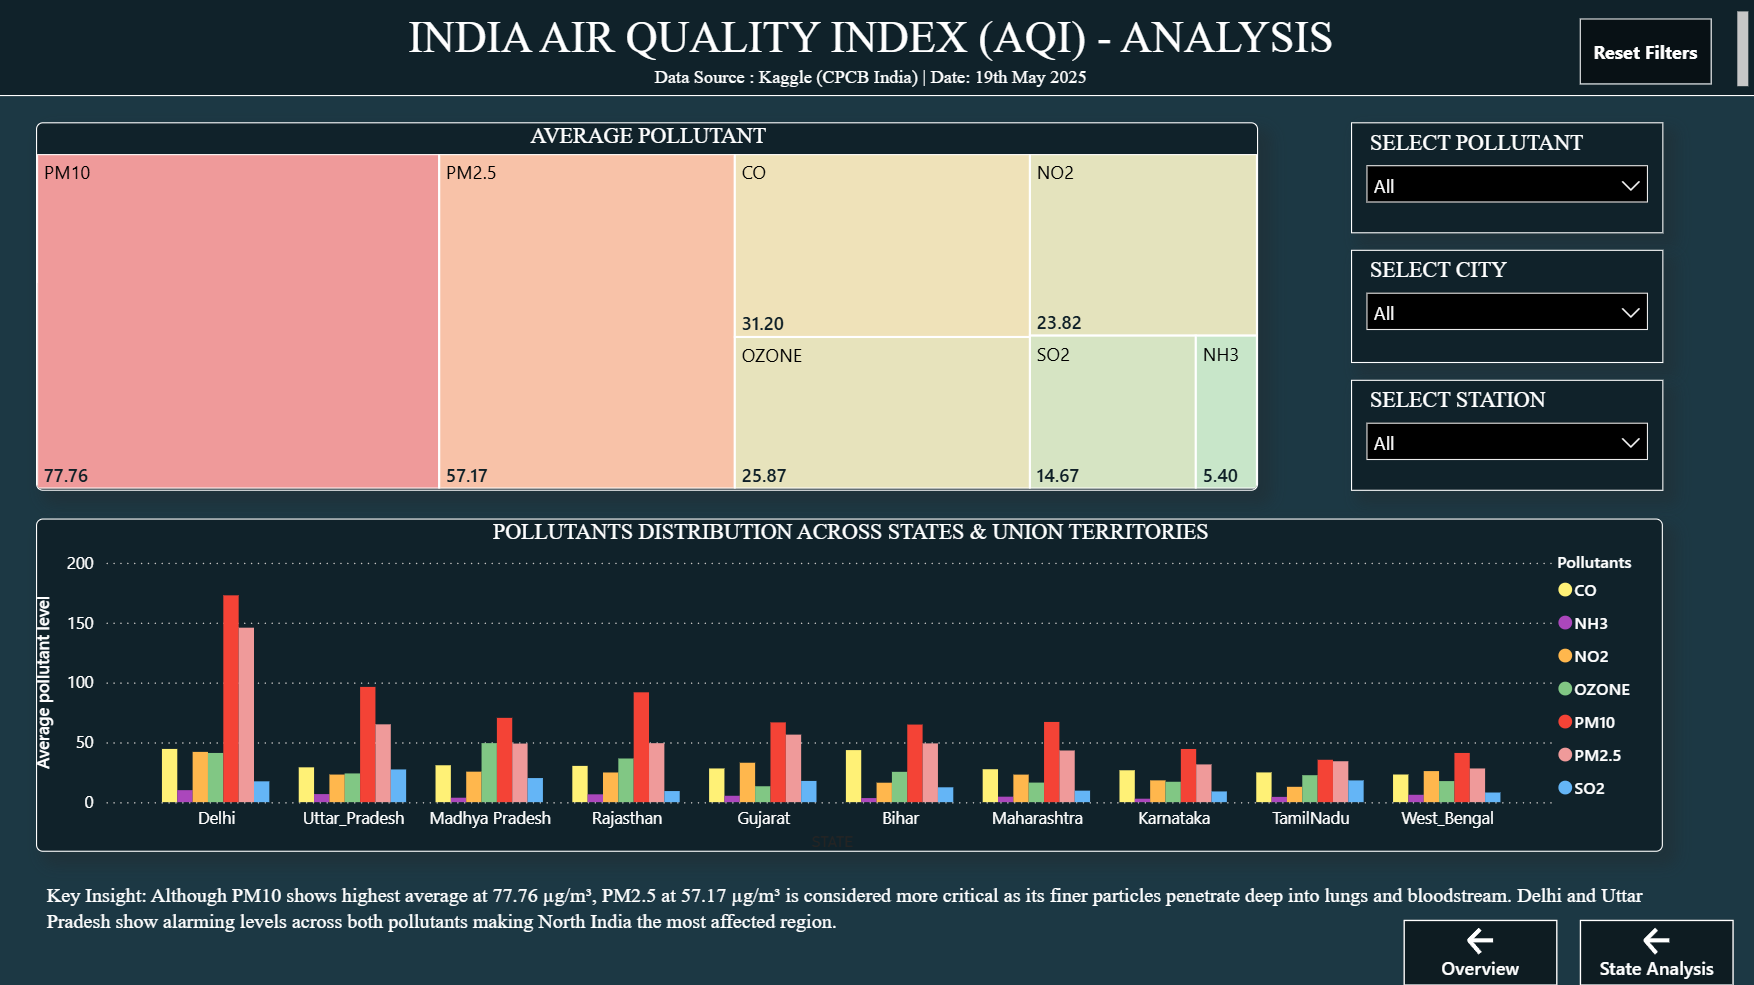

This screenshot's page, from the dashboard's own definition file:
{"tool":"powerbi","page":{"name":"POLLUTANT ANALYSIS","canvas":[1280,720],"ordinal":2},"visuals":[{"type":"textbox","box":[0,0,1280,72.5],"z":0},{"type":"treemap","title":"AVERAGE POLLUTANT","fields":{"Group":["aqi2 (2).pollutant_id"],"Values":["Avg(aqi2 (2).Avg Pollution Level)"]},"box":[29,91.7,889.1,267.8],"z":1000},{"type":"slicer","fields":{"Values":["aqi2 (2).pollutant_id"]},"box":[985.7,91.7,226.8,80.8],"z":2000},{"type":"slicer","fields":{"Values":["aqi2 (2).state","aqi2 (2).city"]},"box":[985.7,184.6,226.8,82],"z":3000},{"type":"slicer","fields":{"Values":["aqi2 (2).station"]},"box":[985.7,278.7,226.8,80.8],"z":4000},{"type":"clusteredColumnChart","title":"POLLUTANTS DISTRIBUTION ACROSS STATES & UNION TERRITORIES","fields":{"Category":["aqi2 (2).state"],"Y":["Avg(aqi2 (2).Avg Pollution Level)"],"Series":["aqi2 (2).pollutant_id"]},"box":[29,380,1183.5,242.5],"z":5000},{"type":"textbox","box":[32,640,1200,64],"z":6000},{"type":"actionButton","box":[1152,672,112,48],"z":7000},{"type":"actionButton","box":[1024,672,112,48],"z":8000},{"type":"actionButton","box":[1152,16,96,48],"z":9000}]}

Visuals, with their boxes in screenshot pixels (x1, y1, x2, y2), scaled from the page's 1280x720 canvas onto the 1754x985 screenshot:
textbox: [x1=0, y1=0, x2=1753, y2=99]
"AVERAGE POLLUTANT" treemap: [x1=40, y1=125, x2=1258, y2=492]
slicer - aqi2 (2).pollutant_id: [x1=1351, y1=125, x2=1662, y2=236]
slicer - aqi2 (2).state x aqi2 (2).city: [x1=1351, y1=253, x2=1662, y2=365]
slicer - aqi2 (2).station: [x1=1351, y1=381, x2=1662, y2=492]
"POLLUTANTS DISTRIBUTION ACROSS STATES & UNION TERRITORIES" clusteredColumnChart: [x1=40, y1=520, x2=1662, y2=852]
textbox: [x1=44, y1=876, x2=1688, y2=963]
actionButton: [x1=1579, y1=919, x2=1732, y2=984]
actionButton: [x1=1403, y1=919, x2=1557, y2=984]
actionButton: [x1=1579, y1=22, x2=1710, y2=88]
